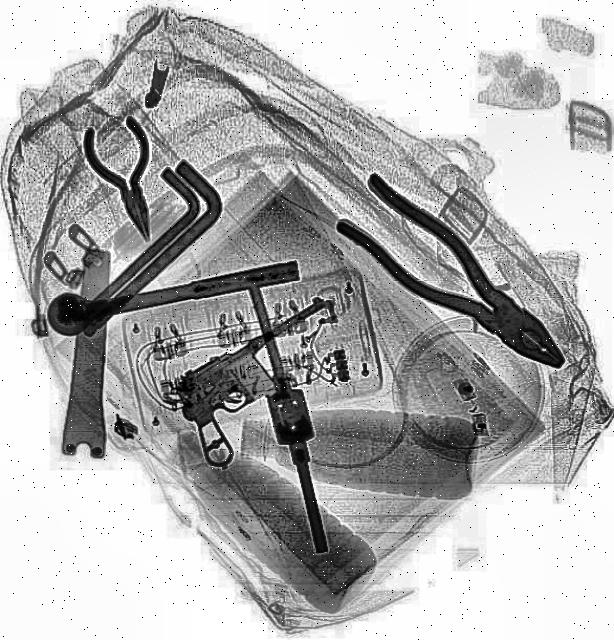Gun: (160, 293, 377, 472)
Pliers: (324, 168, 588, 392), (76, 112, 178, 248)
